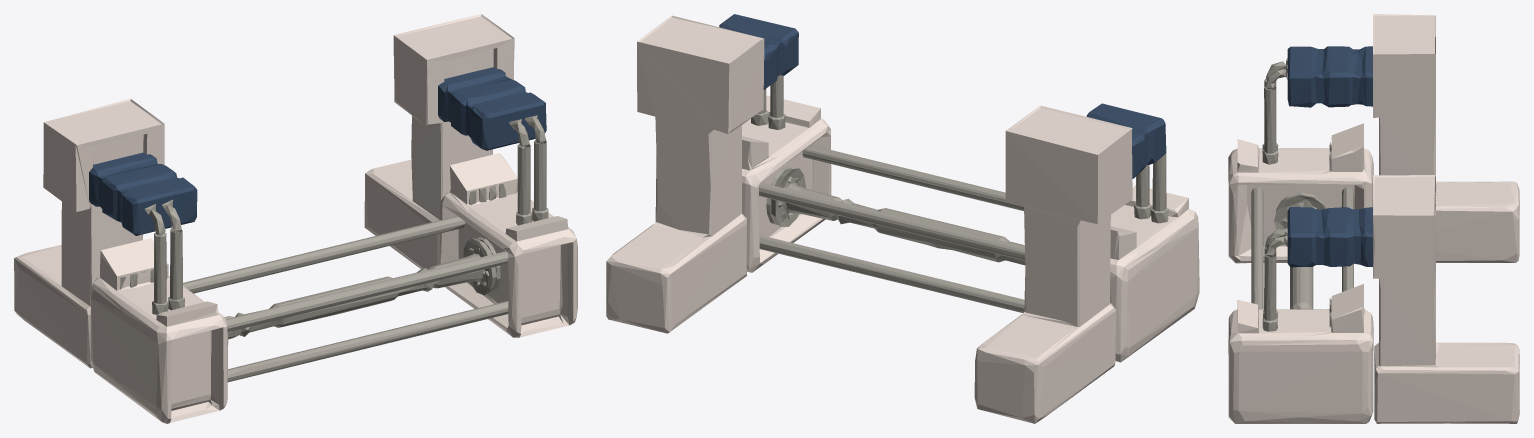
File: control_unit_02.fbx
3 views of the same model, side by side, from view 1: azimuth 30°, elevation 25°; view 2: azimuth 150°, elevation 25°; view 3: azimuth 270°, elevation 25° (orthographic). The views are drawn at different scales.
Visible parts, largest first — view 1: control_unit_02; view 2: control_unit_02; view 3: control_unit_02.
Part boxes in pixels (<box>): control_unit_02: <box>14,14,577,423</box>; control_unit_02: <box>606,14,1199,423</box>; control_unit_02: <box>1228,14,1519,423</box>.
Bounding box in the file's own units: 360 × 180 × 220.
